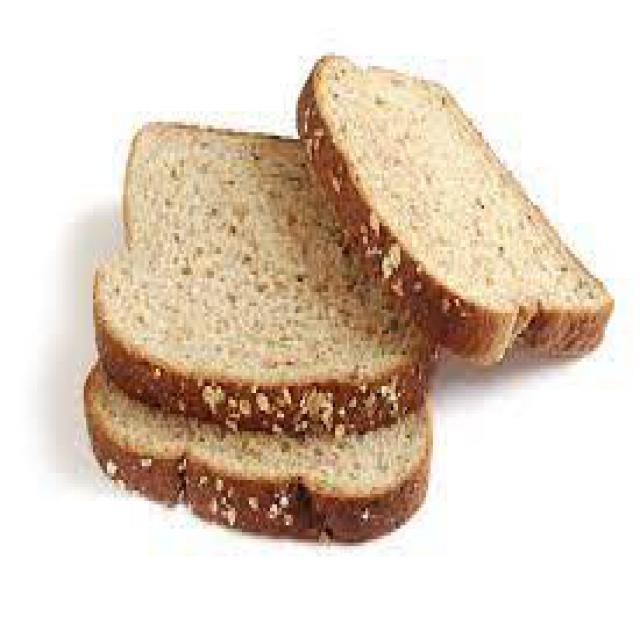Bread: (84, 58, 608, 539)
